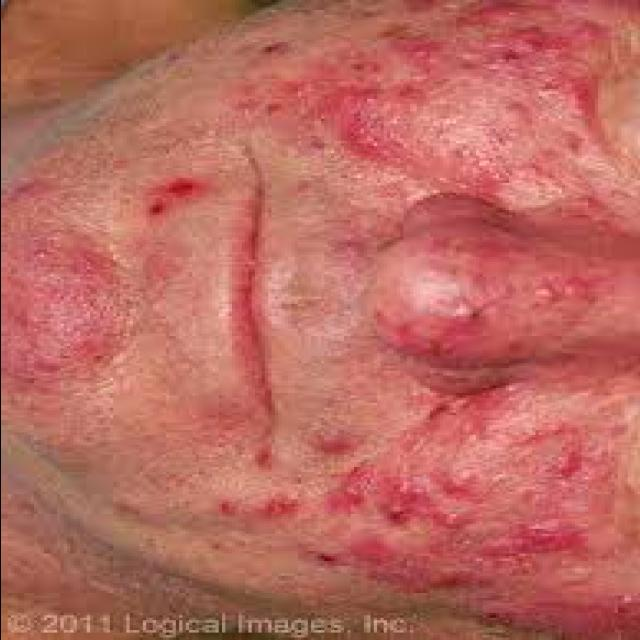Acne: (474, 519, 592, 561), (394, 542, 488, 594), (540, 66, 602, 132), (462, 32, 532, 84), (336, 117, 398, 167), (526, 20, 610, 56), (326, 463, 377, 519), (378, 473, 426, 529), (468, 0, 538, 30), (391, 36, 449, 70), (346, 530, 398, 566), (308, 428, 364, 458), (160, 173, 217, 202), (327, 85, 382, 112), (552, 445, 584, 489), (438, 466, 479, 498), (431, 507, 477, 535), (0, 176, 51, 201), (248, 442, 280, 476), (258, 496, 304, 519), (139, 194, 175, 222), (213, 496, 240, 522)
